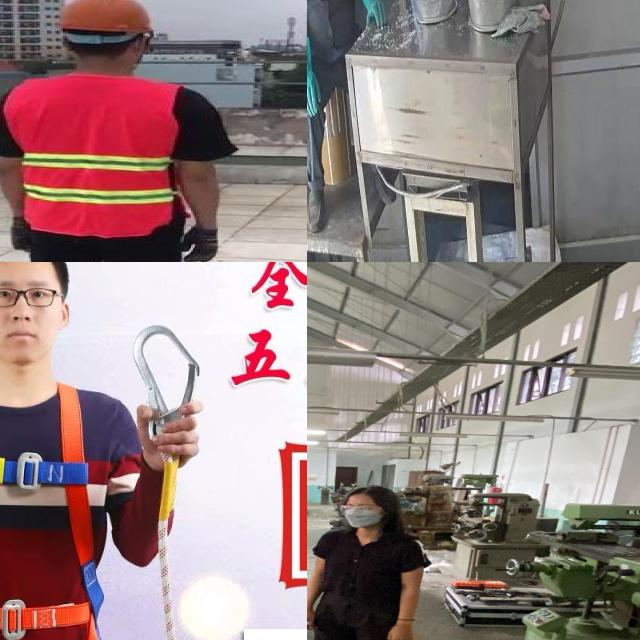Harness: (0, 381, 106, 640)
face_mask: (333, 502, 386, 527)
glasses: (331, 504, 387, 514)
hand_glove: (183, 227, 219, 262), (359, 0, 392, 32), (8, 218, 36, 252), (307, 68, 325, 120)
hand_noglove: (381, 624, 419, 640), (307, 608, 318, 628)
head_helmet: (52, 0, 150, 34)
head_nohelmet: (339, 483, 395, 503)
person: (0, 0, 235, 262), (307, 482, 434, 640), (307, 0, 388, 234)
shoes: (307, 187, 333, 237)
vest: (6, 75, 184, 235)
